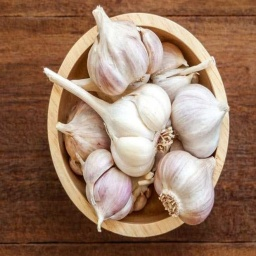Knoblauch: (43, 67, 171, 177), (87, 5, 163, 96), (154, 150, 215, 225), (171, 83, 229, 158)
